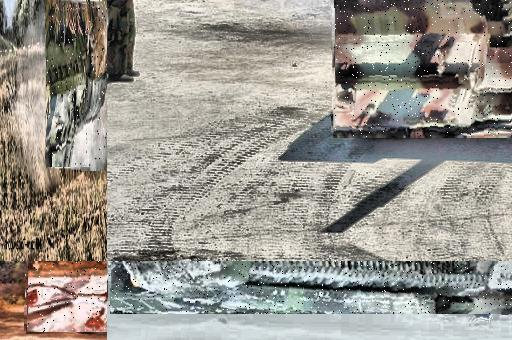tanks: (335, 1, 512, 138), (110, 262, 512, 315), (47, 6, 108, 167), (27, 262, 108, 333)
